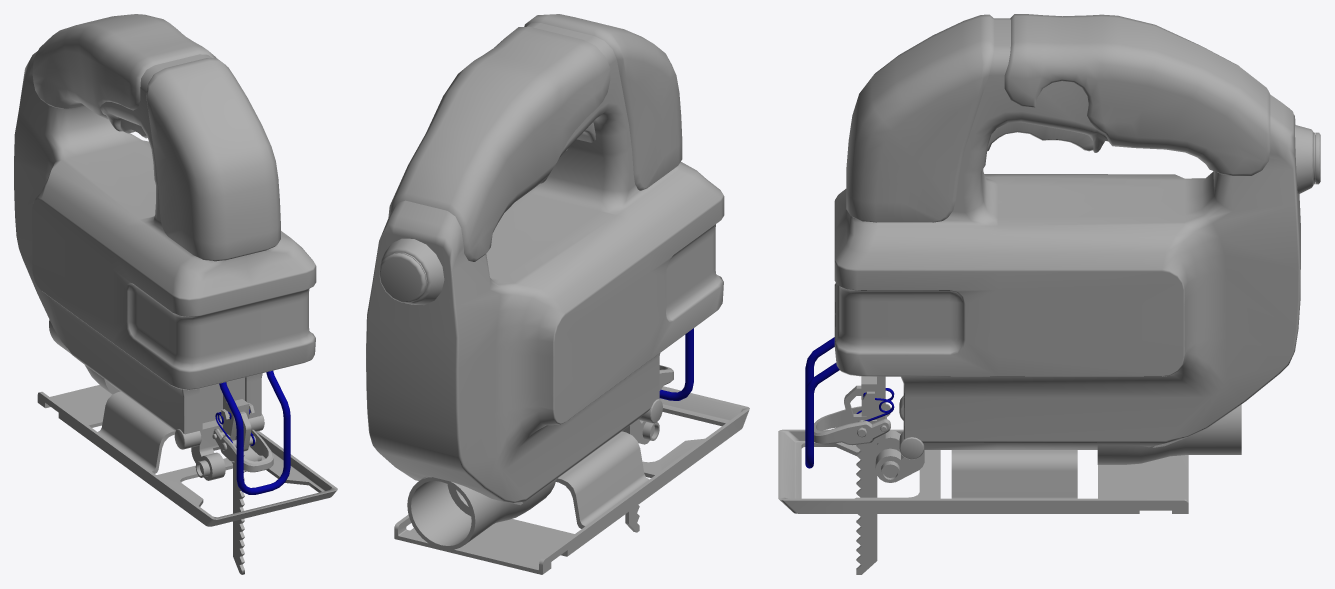
File: Jigsaw.fbx
The picture shows the model from 3 angles, left to right: view 1: azimuth 30°, elevation 25°; view 2: azimuth 150°, elevation 25°; view 3: azimuth 270°, elevation 25°; orthographic projection. The views are drawn at different scales.
Visible parts, largest first — view 1: power_jigsaw; view 2: power_jigsaw; view 3: power_jigsaw.
Part boxes in pixels (x1=…): power_jigsaw: x1=14, y1=14, x2=337, y2=574; power_jigsaw: x1=366, y1=14, x2=749, y2=574; power_jigsaw: x1=778, y1=14, x2=1320, y2=574.
Size of the model in its own units: 9.03 by 28.6 by 25.8.
